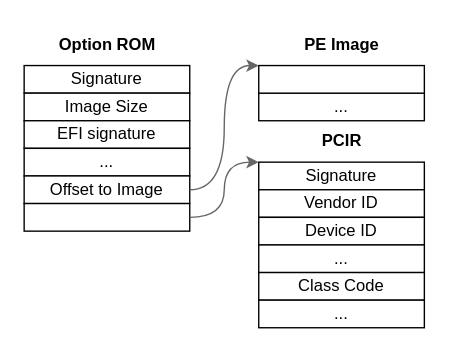
This 449x352 diagram has some shape labels left out. The shapes that lost their labels are listed below. From the top down, each one's centre as x and y in pixels, then its label:
the point at 340,78: DOS Header
the point at 106,216: Offset to PCIR
